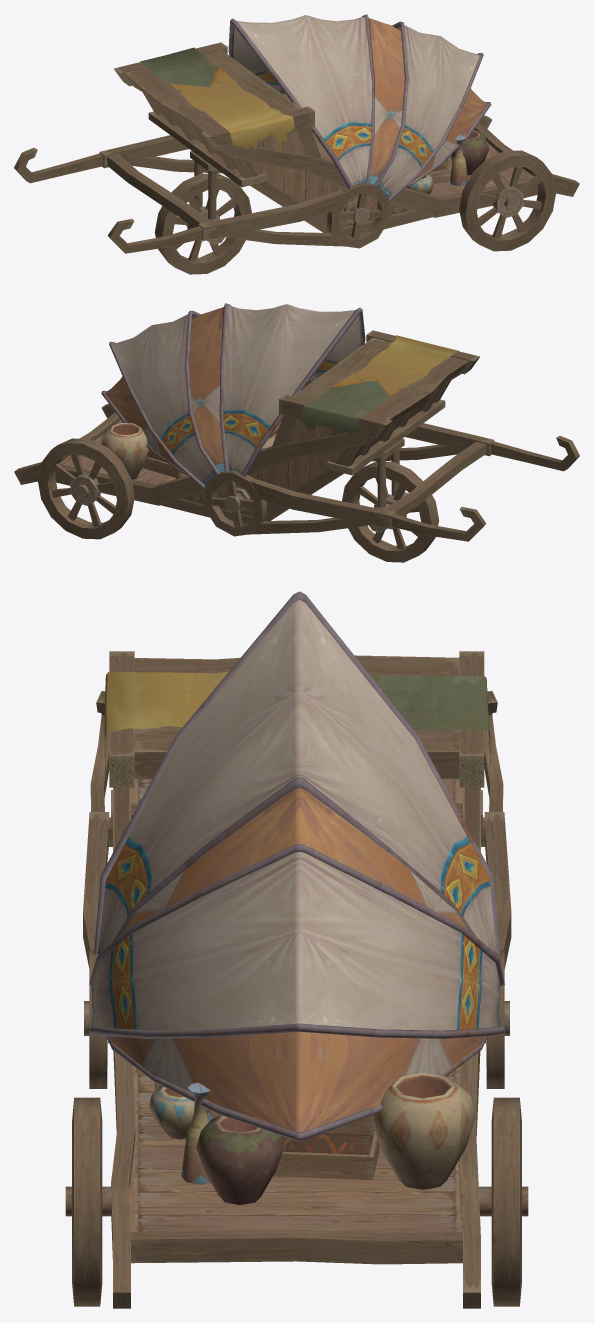
File: Homeworld_Exterior_Xm_Decoration_Prop_Huochepeng_01_Lod0.fbx
3 renders of one model, top to bottom at view 1: azimuth 30°, elevation 25°; view 2: azimuth 150°, elevation 25°; view 3: azimuth 270°, elevation 25°, orthographic. The views are drawn at different scales.
Parts seen in each view (by area): view 1: Area_Xm_Prop_CWSM_Huoche_01_Lod0, Area_Xm_Prop_CWSM_Huochepeng_01_Lod0; view 2: Area_Xm_Prop_CWSM_Huoche_01_Lod0, Area_Xm_Prop_CWSM_Huochepeng_01_Lod0; view 3: Area_Xm_Prop_CWSM_Huochepeng_01_Lod0, Area_Xm_Prop_CWSM_Huoche_01_Lod0.
Boxes of the visible parts, x1,y1,x2,y2 form: Area_Xm_Prop_CWSM_Huoche_01_Lod0: [14, 42, 579, 274]; Area_Xm_Prop_CWSM_Huochepeng_01_Lod0: [228, 14, 491, 201]; Area_Xm_Prop_CWSM_Huoche_01_Lod0: [14, 330, 579, 562]; Area_Xm_Prop_CWSM_Huochepeng_01_Lod0: [101, 303, 365, 489]; Area_Xm_Prop_CWSM_Huochepeng_01_Lod0: [88, 591, 505, 1140]; Area_Xm_Prop_CWSM_Huoche_01_Lod0: [65, 651, 528, 1308].
Size of the model in its own units: 7.31 by 3.62 by 3.1.
